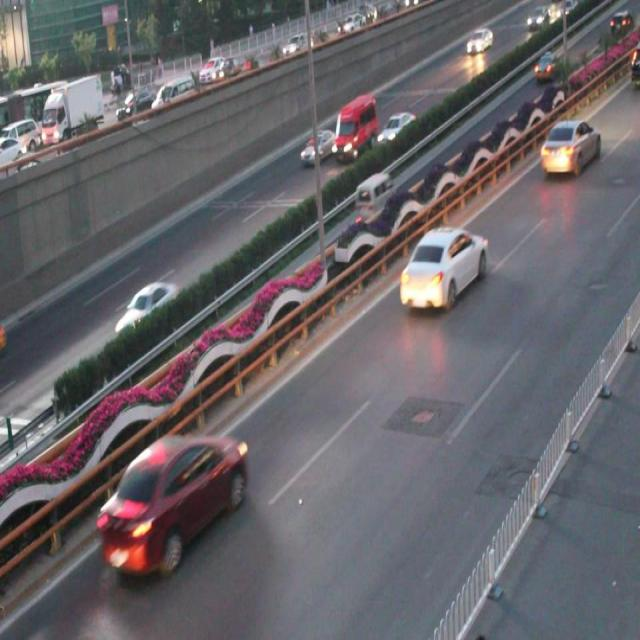car: (98, 432, 251, 580), (399, 224, 487, 309), (539, 117, 600, 177), (114, 282, 179, 338), (376, 111, 416, 147), (300, 129, 336, 164)
truck: (331, 95, 379, 158), (352, 170, 393, 220)
